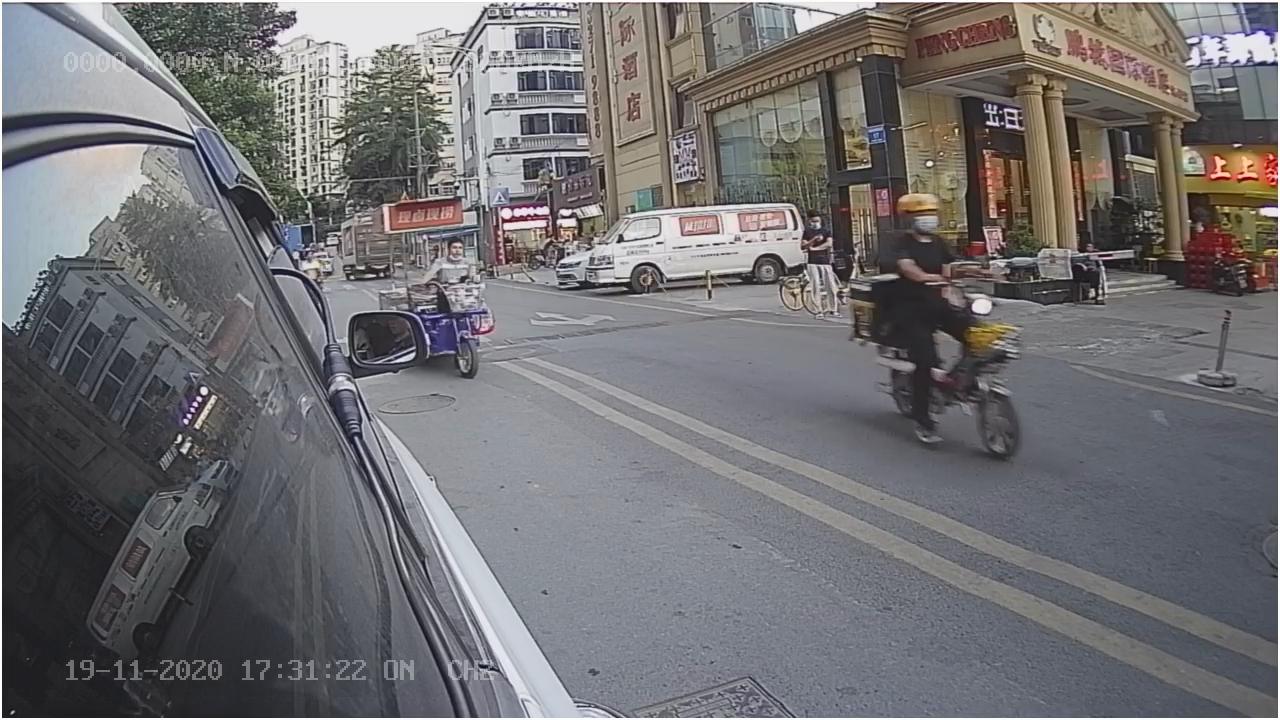person: (880, 190, 967, 266), (423, 233, 481, 278)
